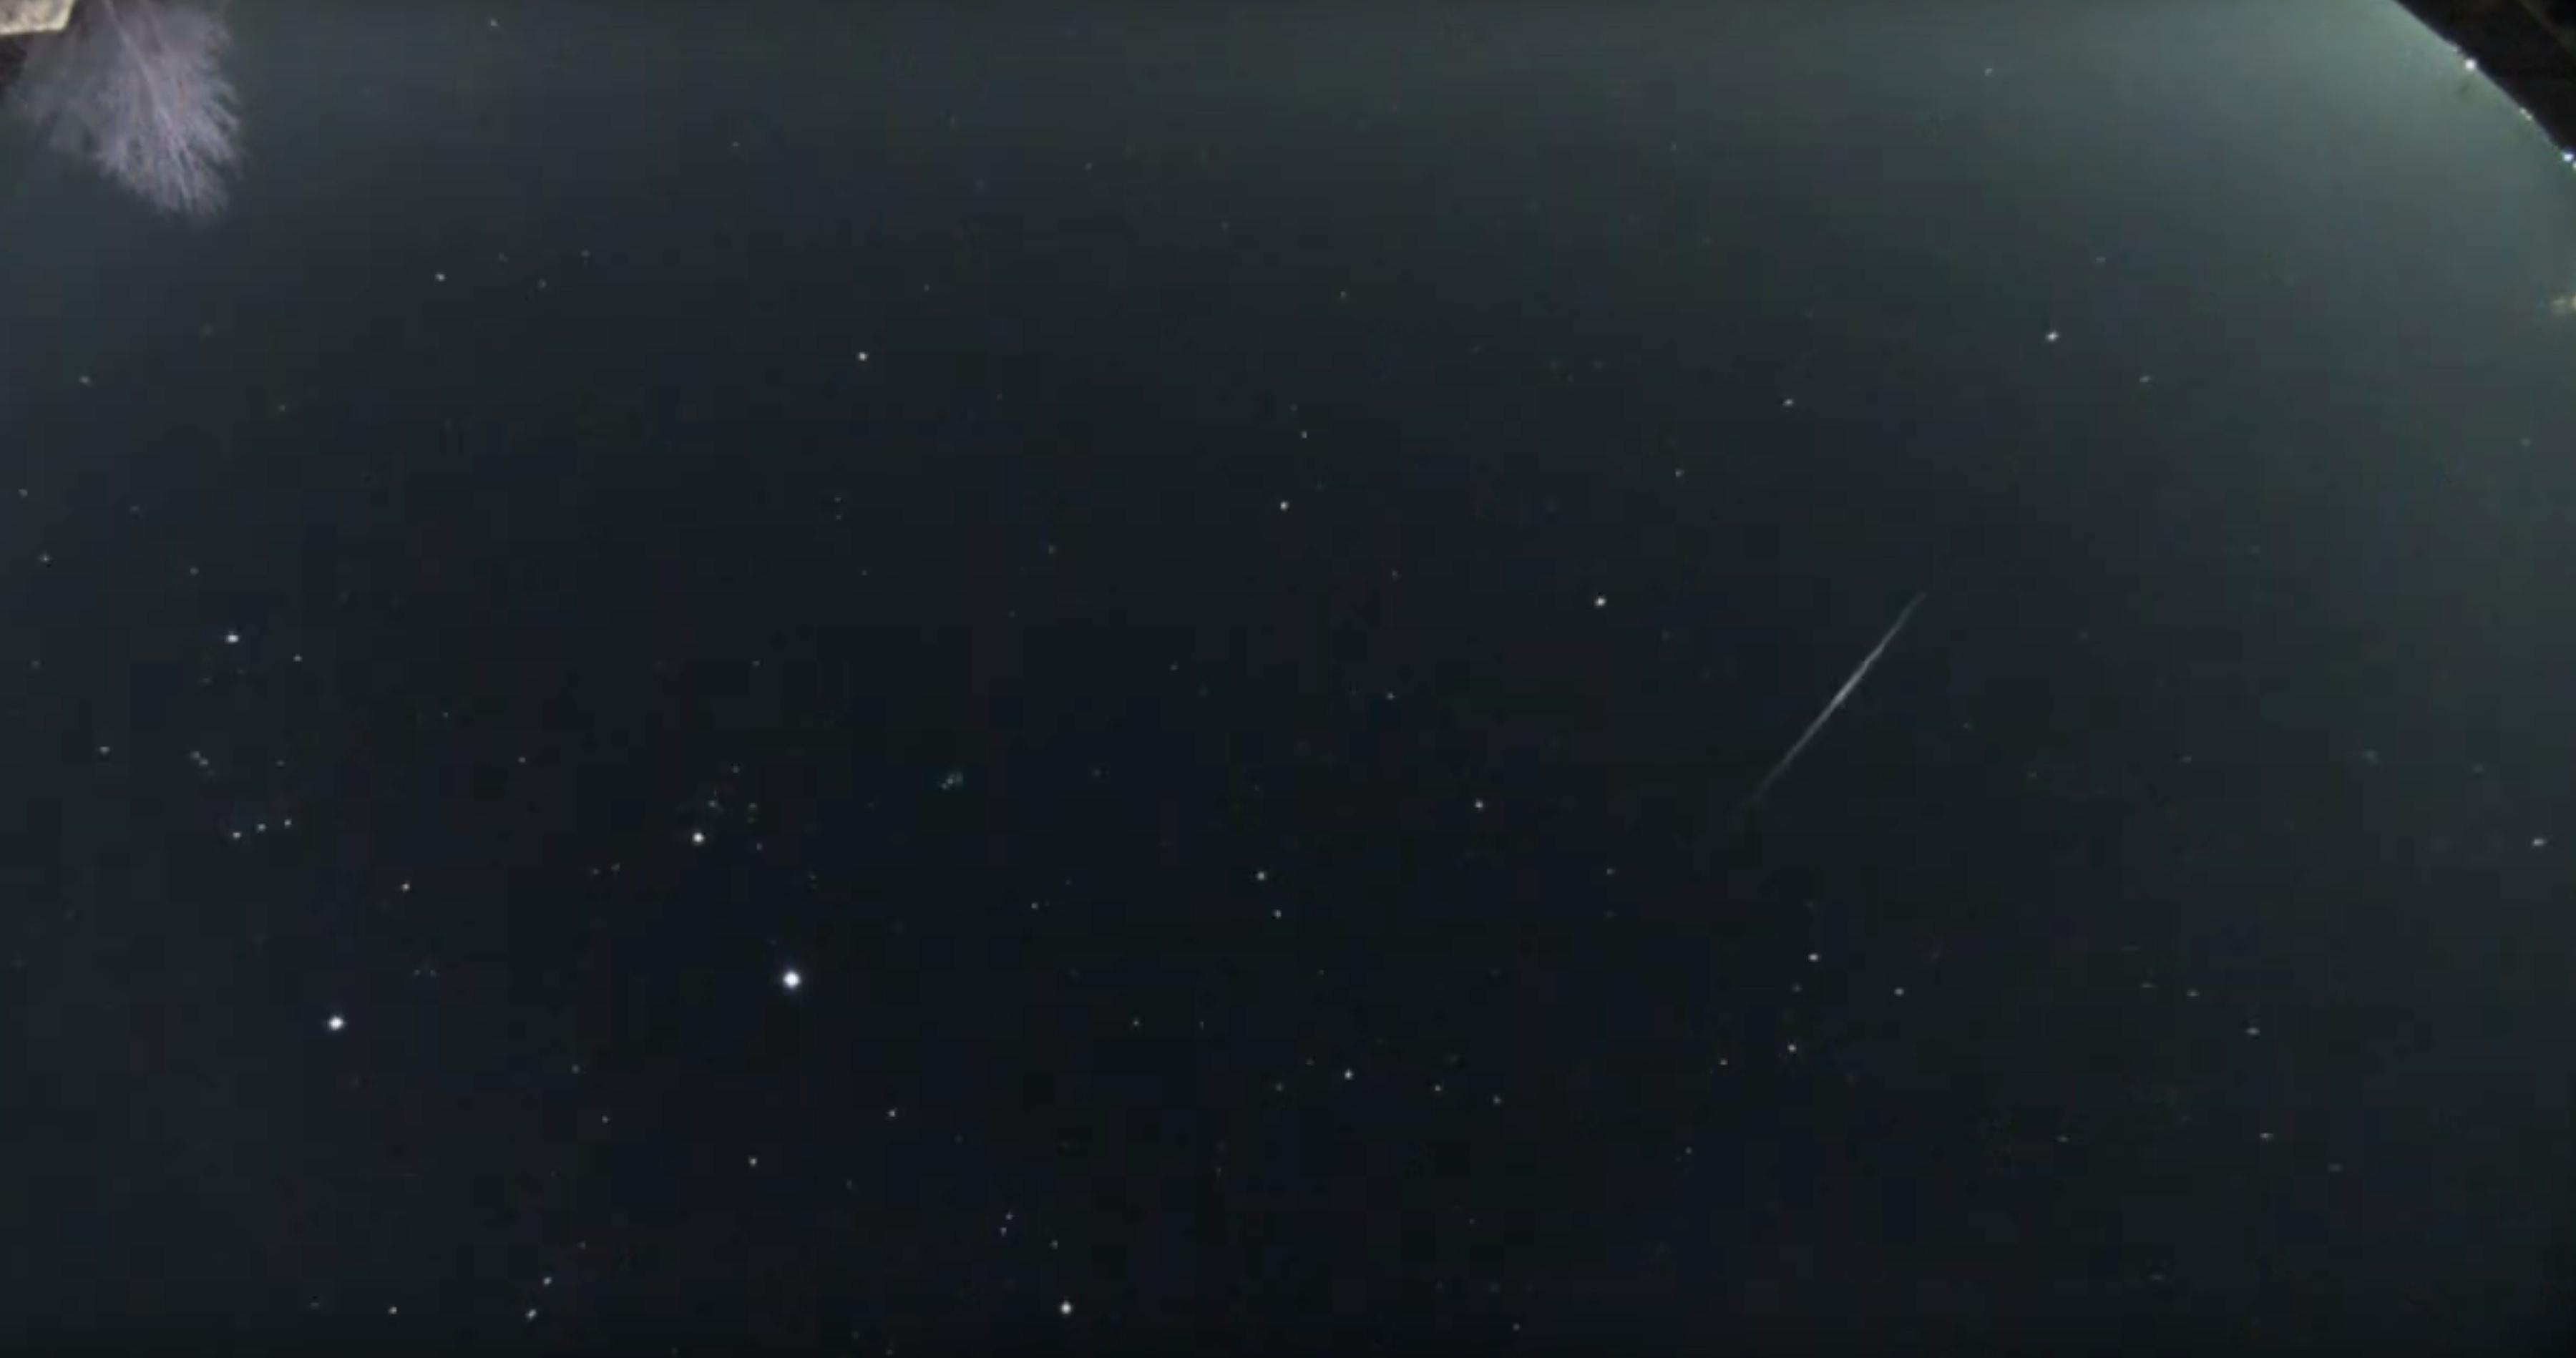meteorite: (1707, 586, 1966, 837)
